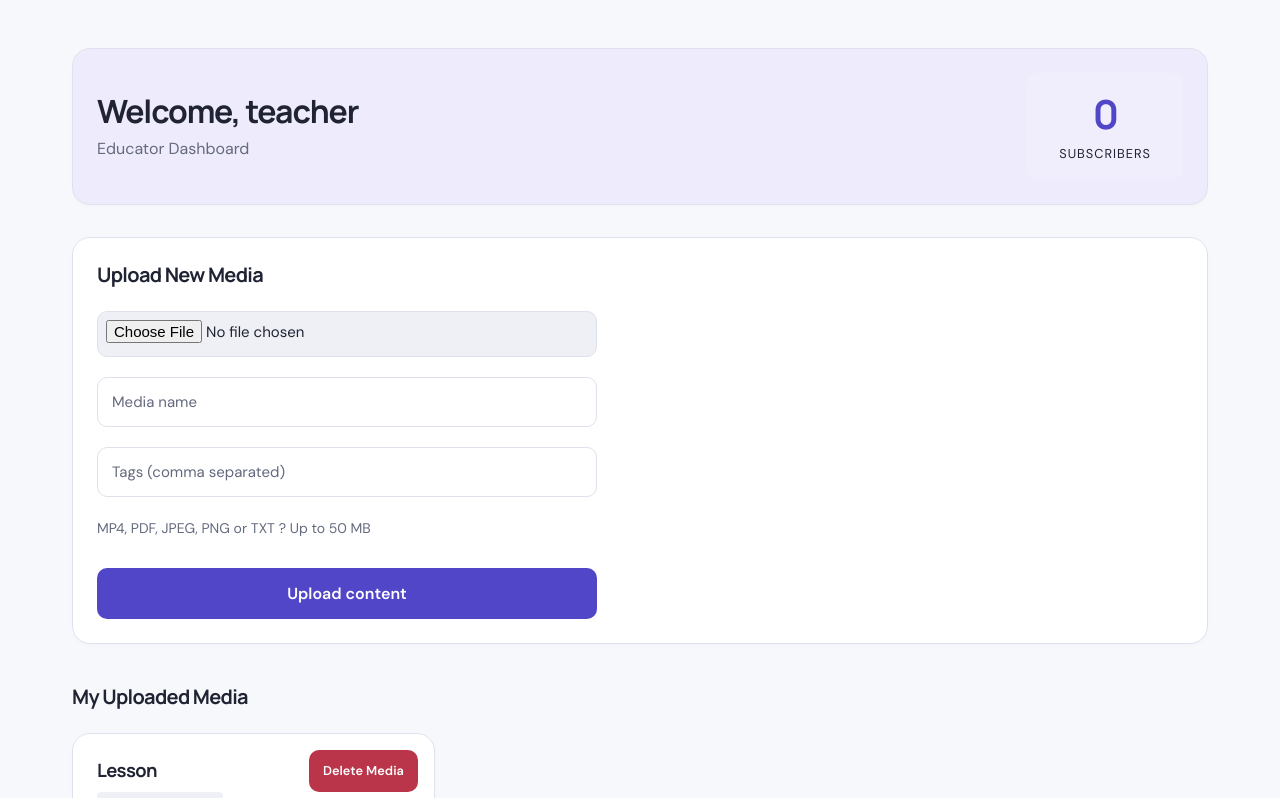
Scenario: deletion requires confirmation: true
What coordinates should you click on to do the following:
click the button "Delete Media"
I would click on:
 (363, 772)
Its box is top-left (309, 750), bottom-right (418, 792).
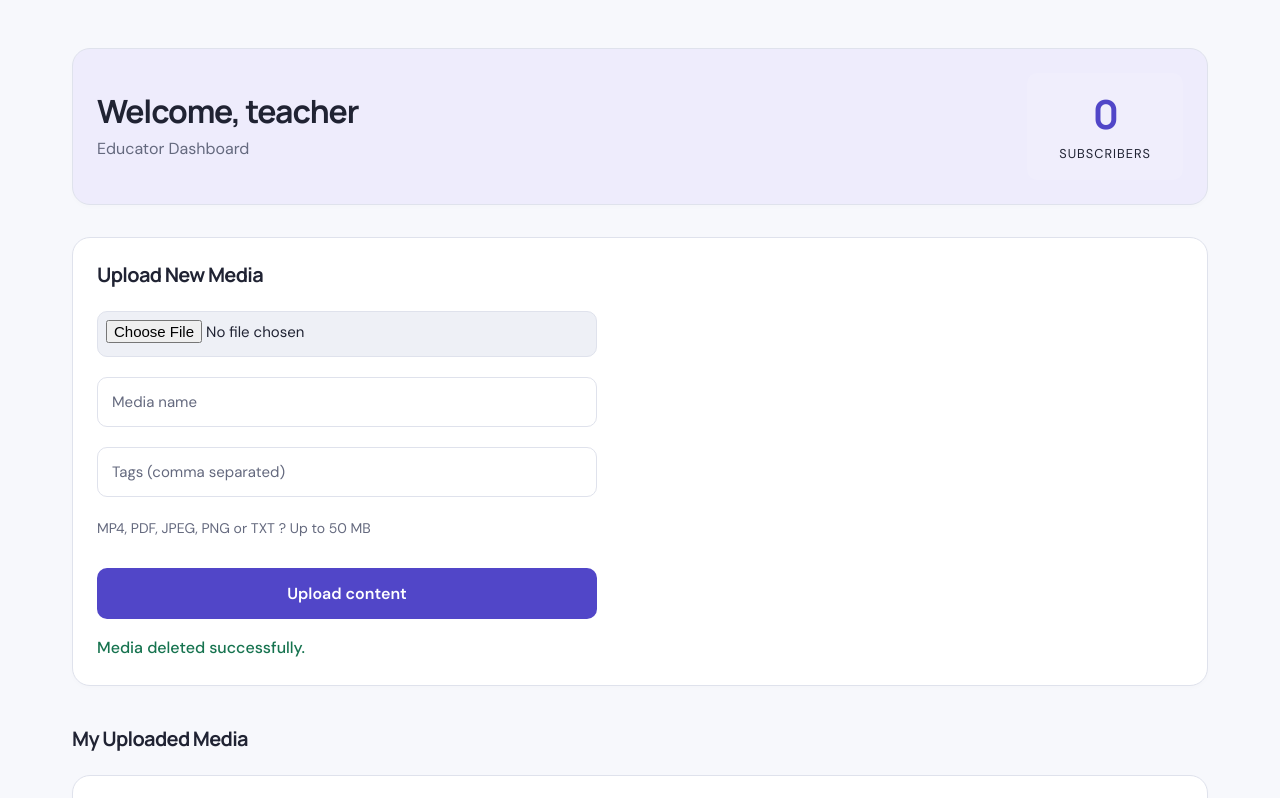
Result: the heading "Lesson" is gone
